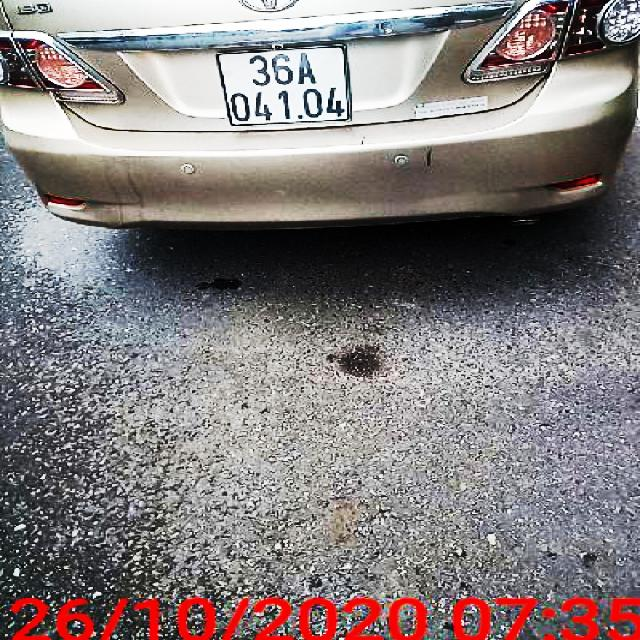license_plate: (217, 46, 357, 132)
